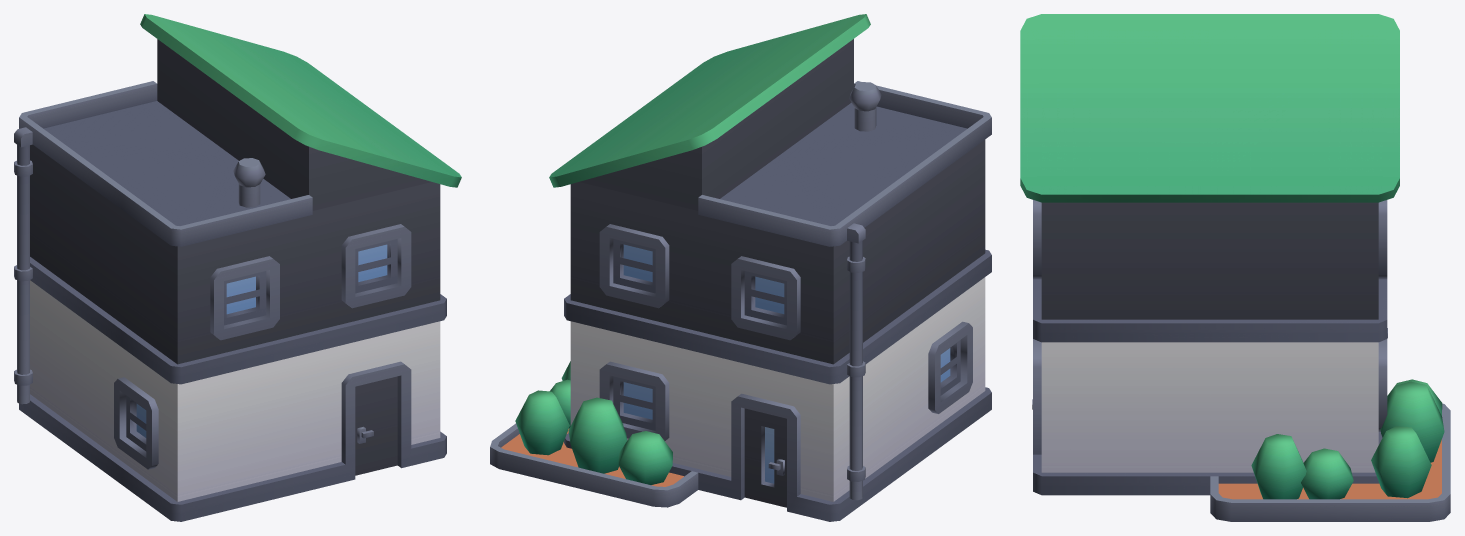
Rendered from building-type-l.draco.glb.
The picture shows the model from 3 angles, left to right: view 1: azimuth 30°, elevation 25°; view 2: azimuth 150°, elevation 25°; view 3: azimuth 270°, elevation 25°; orthographic projection. The views are drawn at different scales.
Parts seen in each view (by area): view 1: building-type-l; view 2: building-type-l; view 3: building-type-l.
Boxes of the visible parts, x1=… form: building-type-l: x1=14, y1=14, x2=461, y2=521; building-type-l: x1=490, y1=14, x2=991, y2=521; building-type-l: x1=1020, y1=14, x2=1450, y2=521.
Bounding box in the file's own units: 1.03 × 1.05 × 1.02.
1 material, 1 textured.
